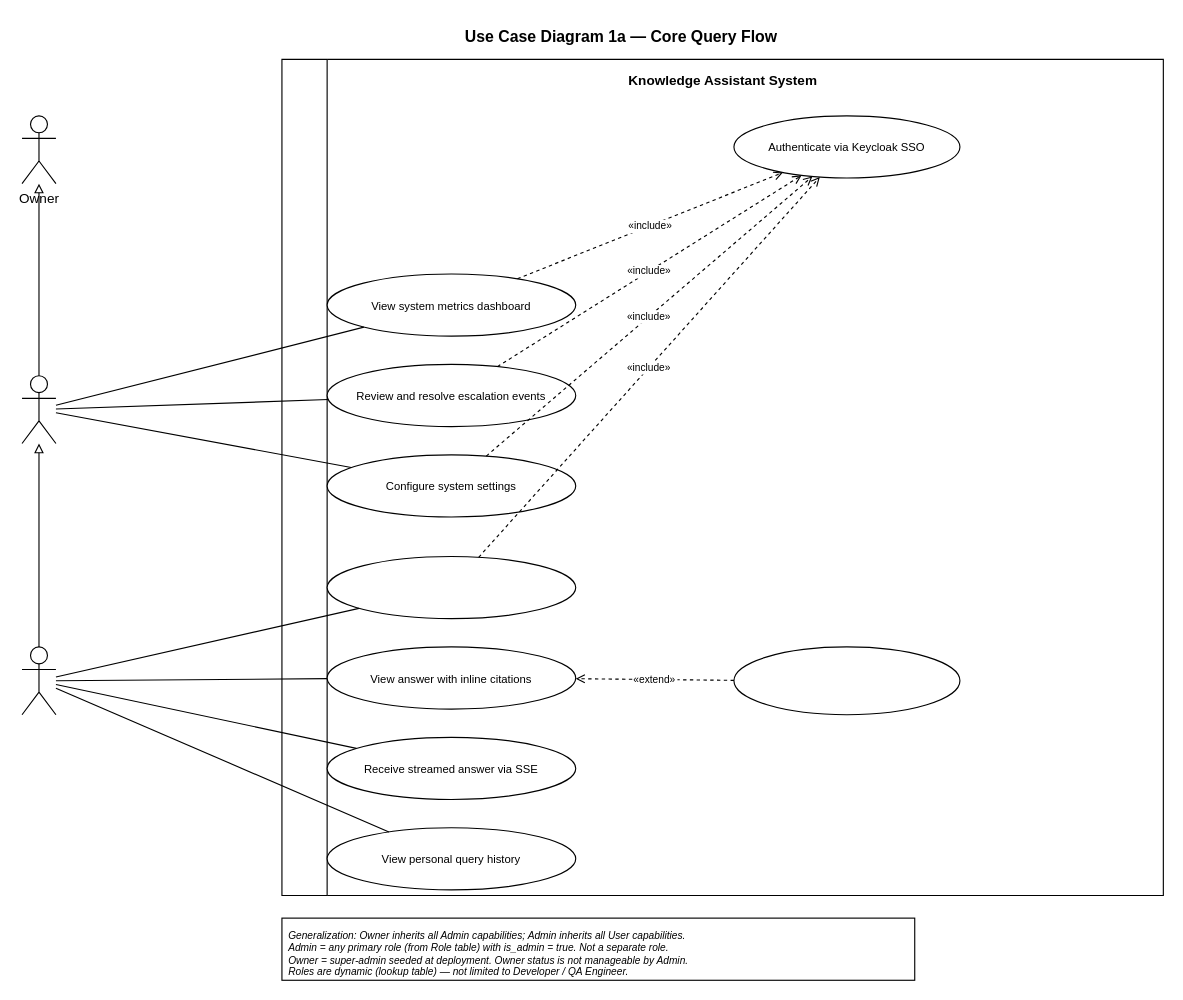
This 1183x1000 diagram has some shape labels left out. Here are the shapes that lost their labels. From the top down, the centre of each, then its label:
At [38,409]: "Admin".
At [451,587]: "Ask question in natural language".
At [38,680]: "User".
At [846,680]: "Receive confidence warning on low-score answer".
